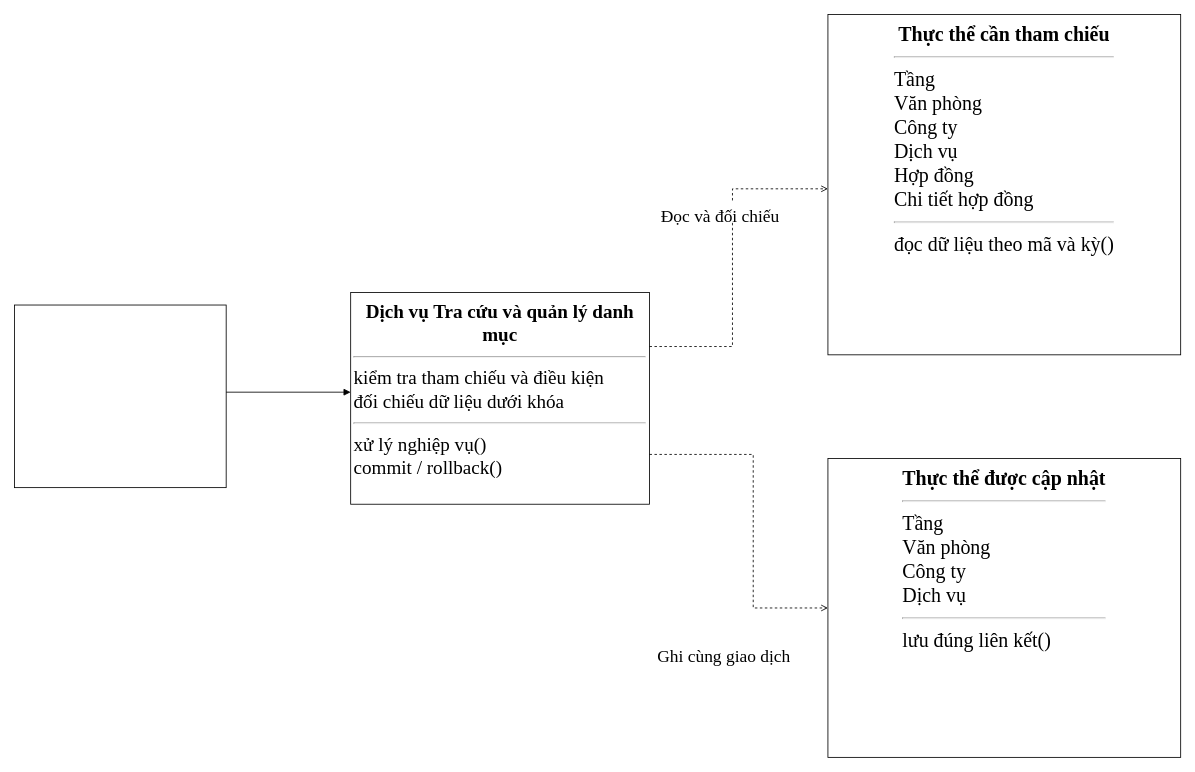
This 1195x772 diagram has some shape labels left out. Here are the shapes that lost their labels. From the top down, the box of each, then its label:
(14, 304, 226, 488): FrmDanhMuc chọn bản ghi, nhập thông tin hiển thị lỗi và kết quả gửi yêu cầu()
(256, 370, 320, 390): Yêu cầu
